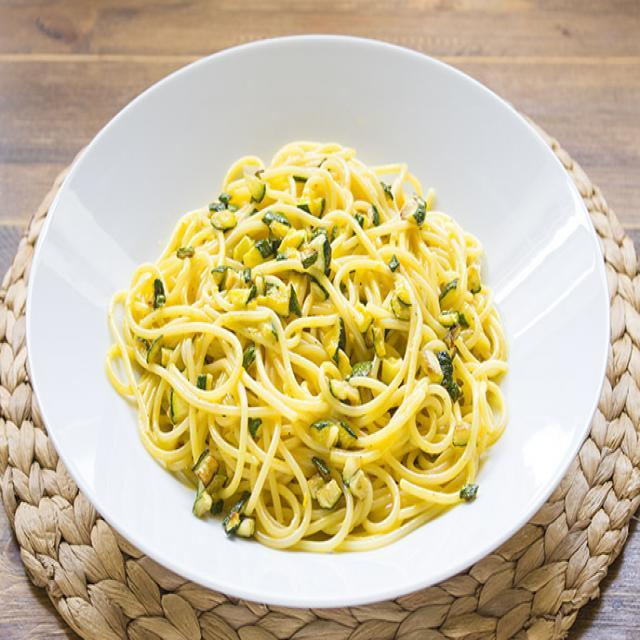Pasta with carbonara sauce: (92, 151, 566, 557)
